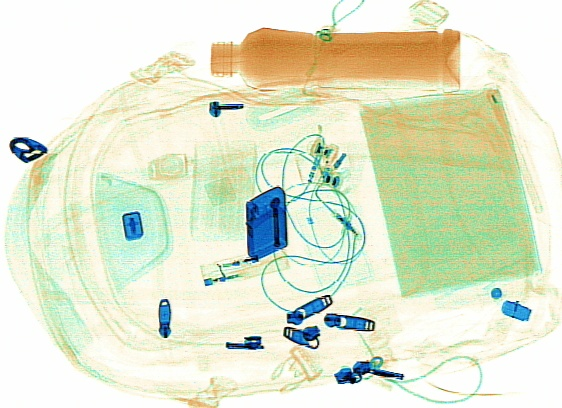lighter: (197, 242, 289, 285), (243, 184, 288, 259)
